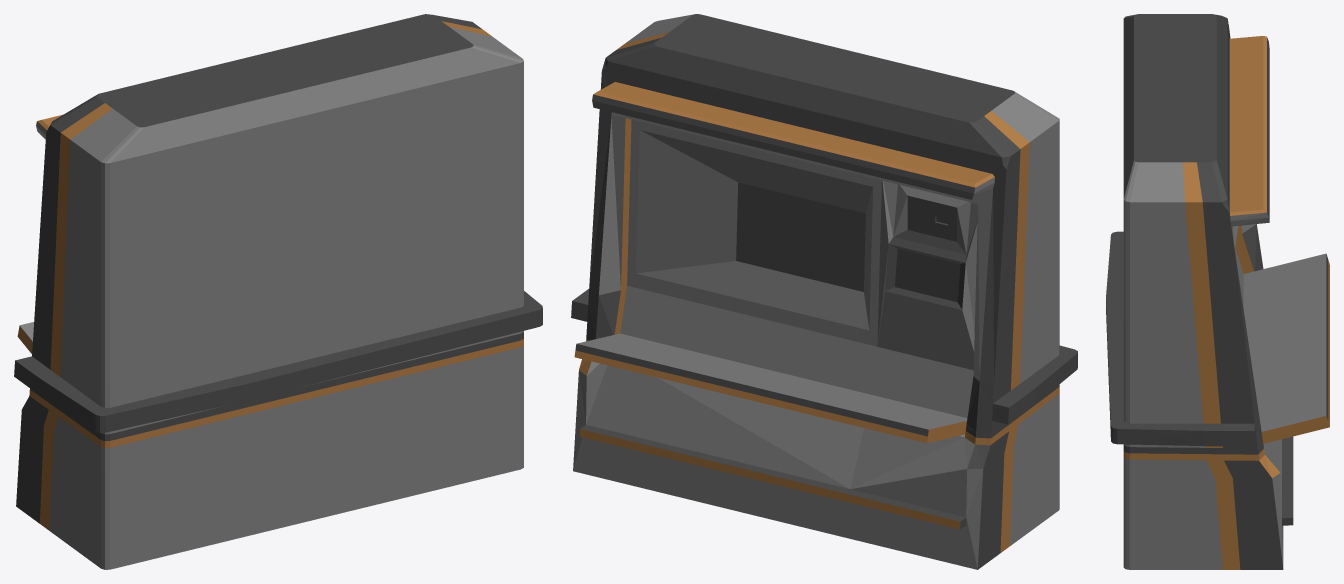
File: SM_Terminal3.fbx
The picture shows the model from 3 angles, left to right: view 1: azimuth 30°, elevation 25°; view 2: azimuth 150°, elevation 25°; view 3: azimuth 270°, elevation 25°; orthographic projection. The views are drawn at different scales.
Parts seen in each view (by area): view 1: SM_Terminal3; view 2: SM_Terminal3; view 3: SM_Terminal3.
Part boxes in pixels (x1,y1,x2,y2): SM_Terminal3: [14, 14, 542, 569]; SM_Terminal3: [571, 14, 1077, 569]; SM_Terminal3: [1106, 14, 1329, 569].
Size of the model in its own units: 1.19 by 1.07 by 0.5607.
